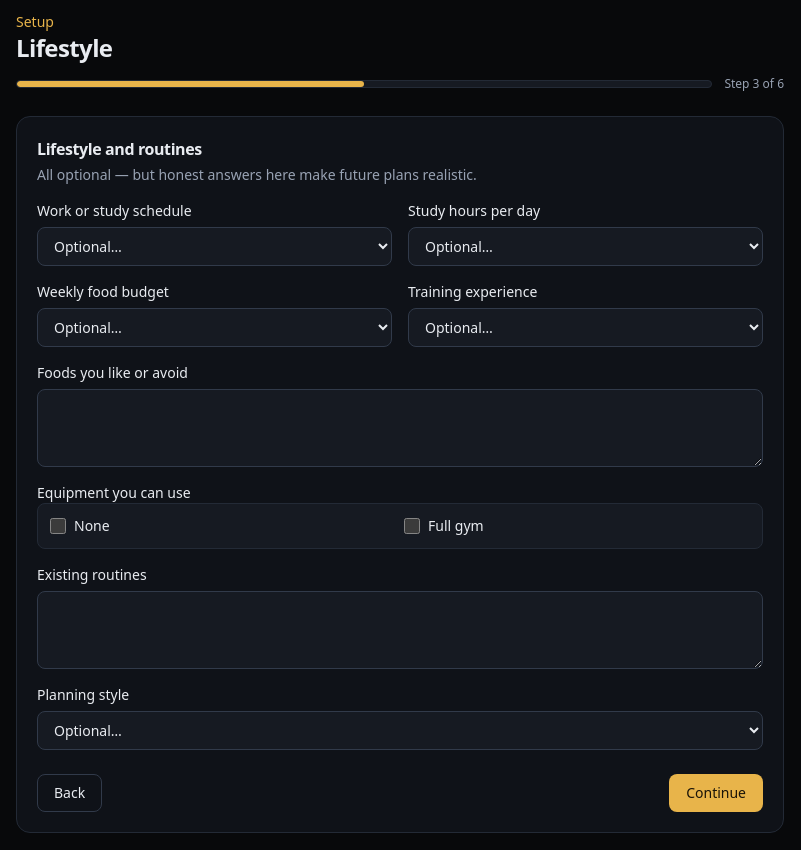
Test case: OnboardingPage › disables the continue button while a save is in flight
This screenshot has width=801, height=850.
Expected: the heading "Lifestyle" is shown, top-left (16, 31), bottom-right (112, 64)
Click the button "Continue" at (716, 793), box top-left (669, 774), bottom-right (763, 812)
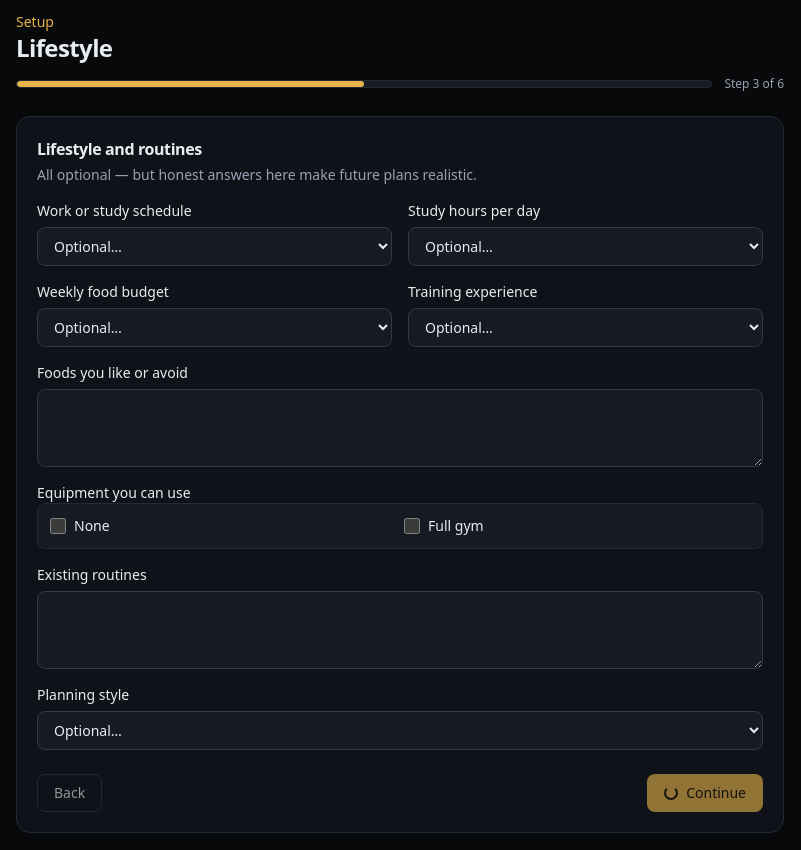
Now the button "Continue" is disabled
# A second click while saving is ignored — no duplicate submission.
Click the button "Continue" at (705, 793), box top-left (647, 774), bottom-right (763, 812)
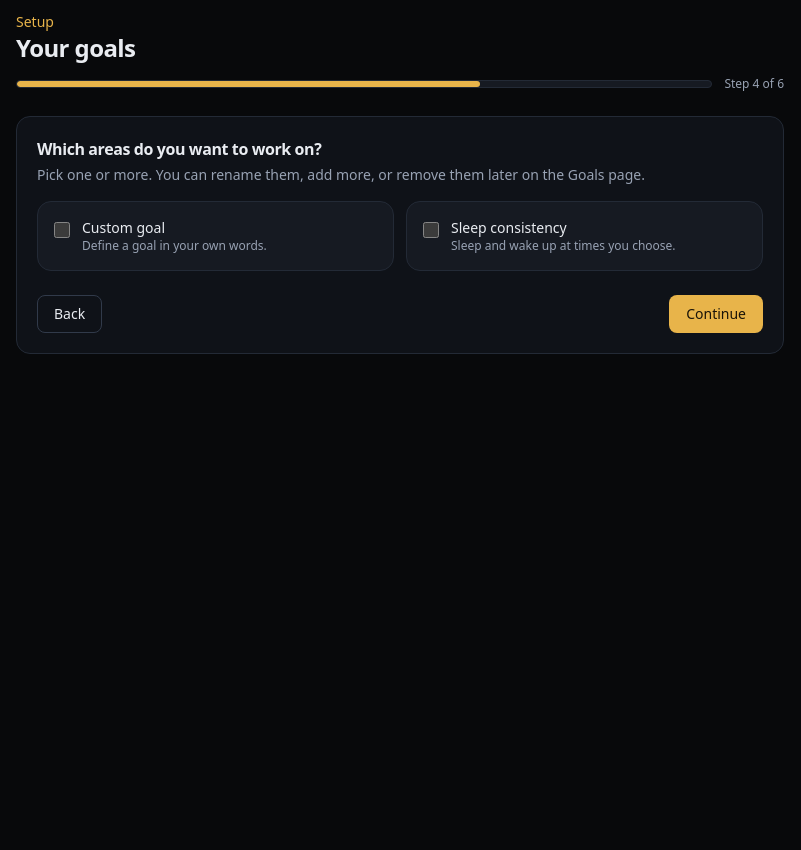
Now the heading "Your goals" is shown, box top-left (16, 31), bottom-right (135, 64)
